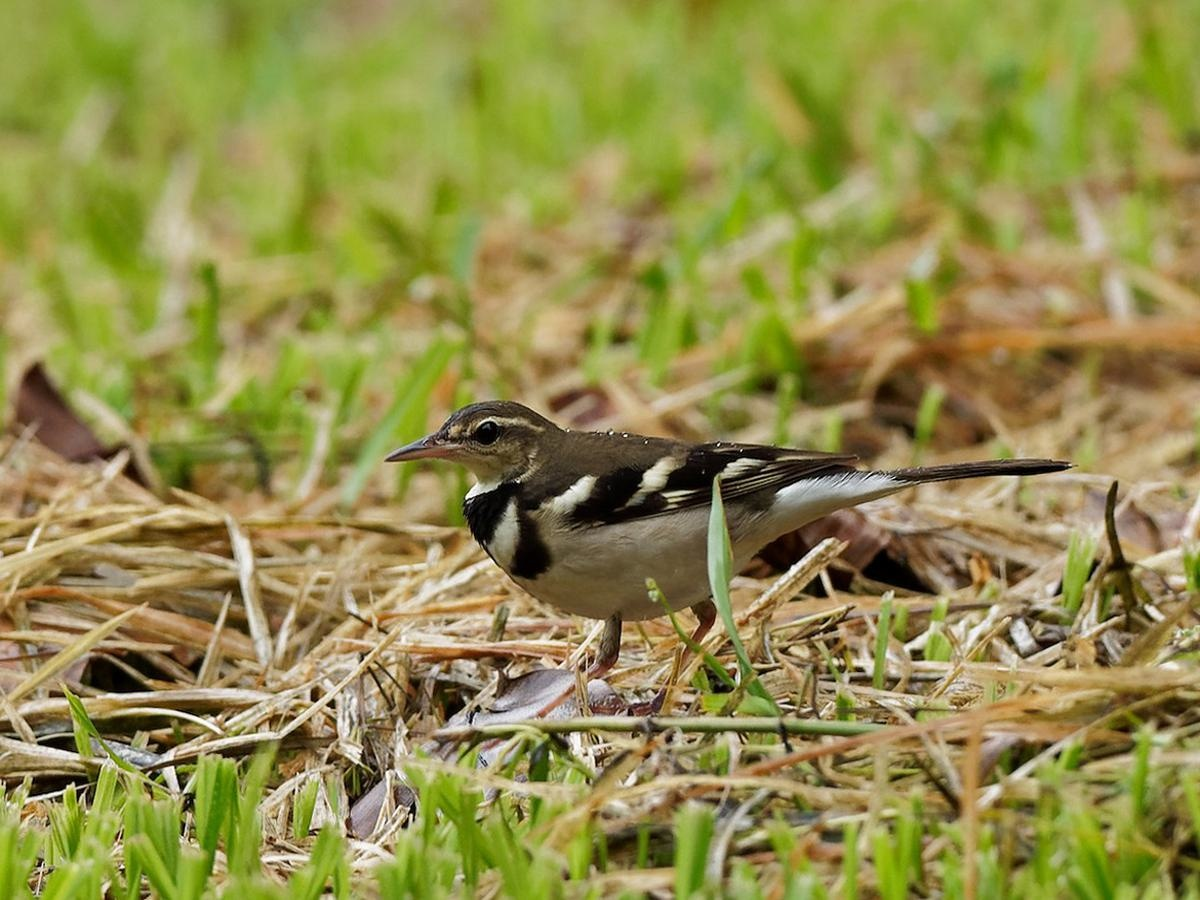wagtail: (406, 375, 941, 675)
